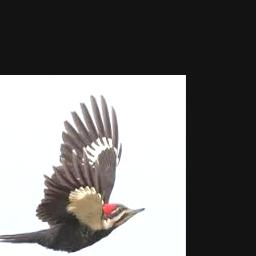Woodpecker: (0, 94, 146, 251)
